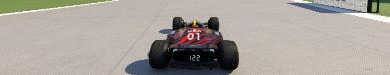Car: (147, 16, 239, 70)
curve: (0, 0, 389, 74)
obstacles-Borders: (290, 0, 379, 12)
